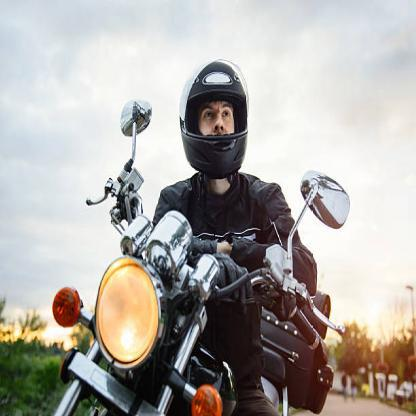Motorcycle: (33, 165, 347, 415)
